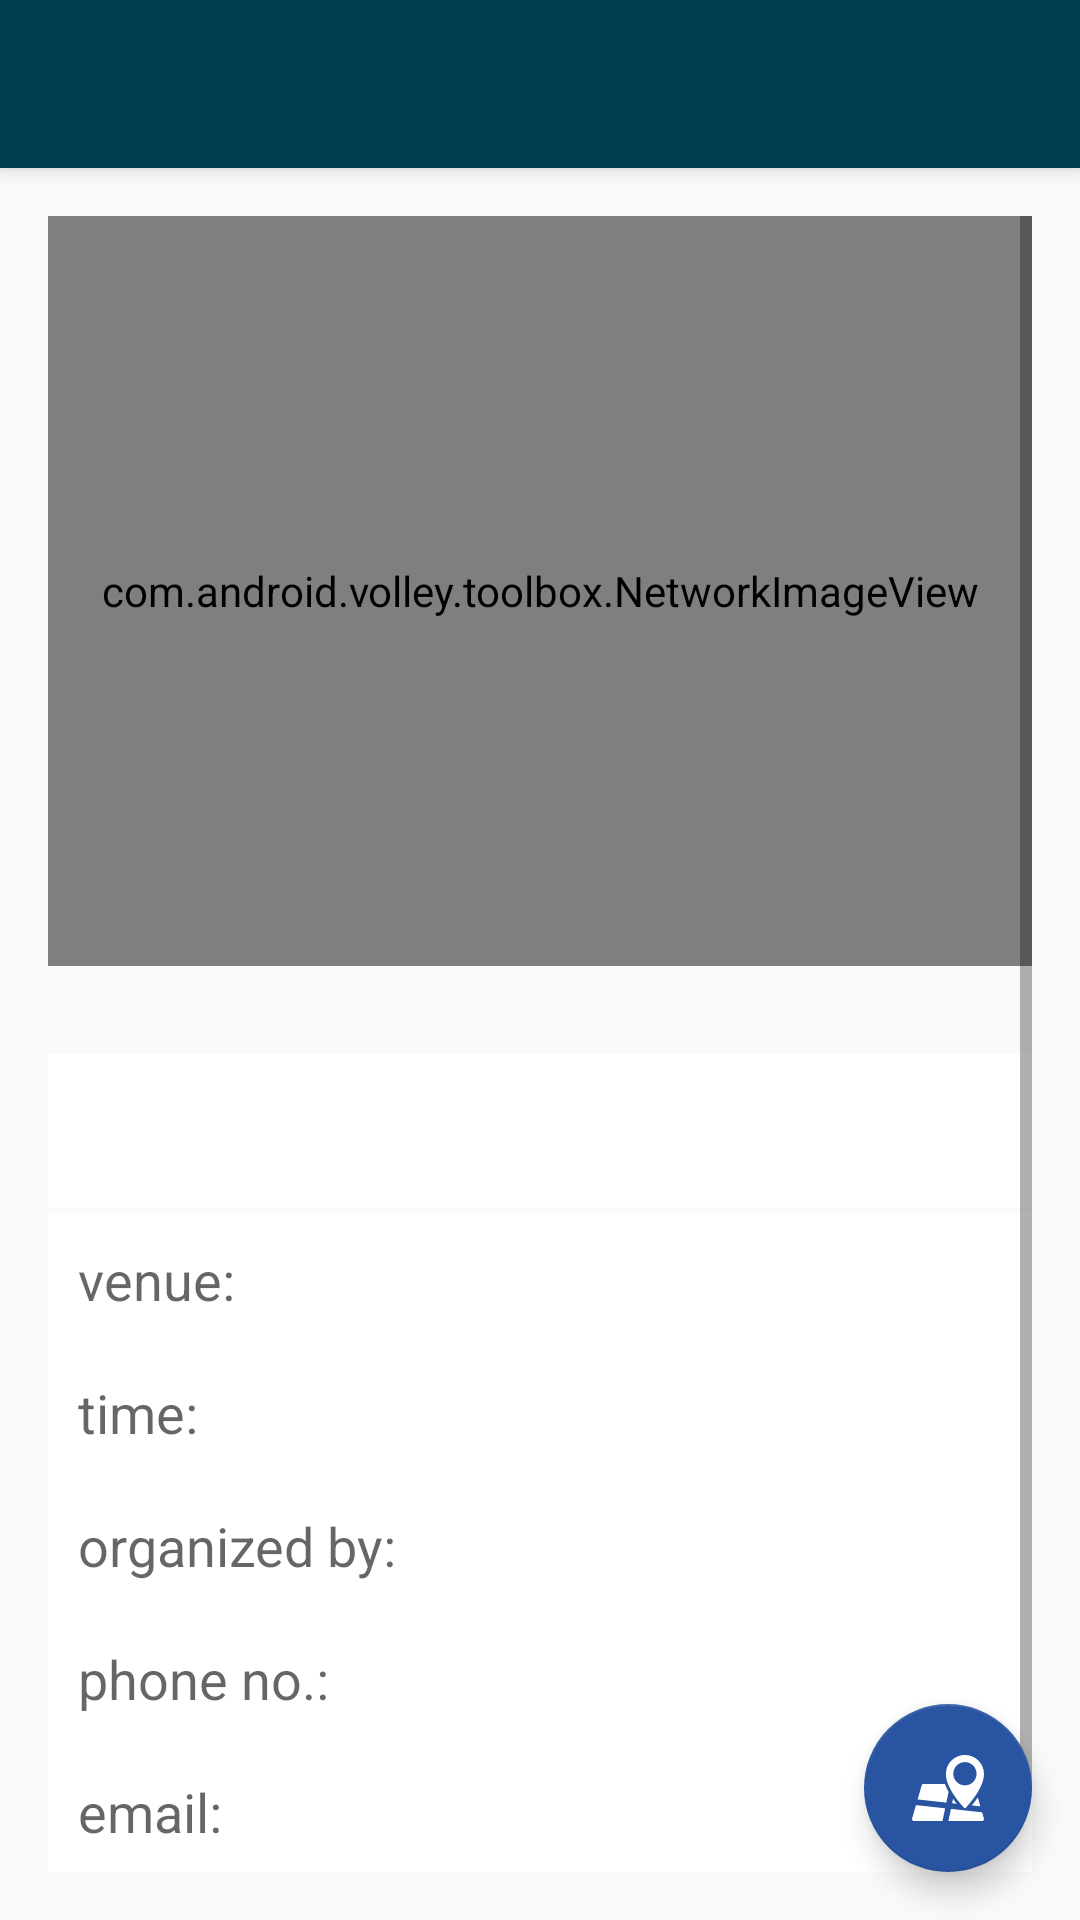

Named icons in this screenshot (1080px x 1920px) and their bounding boxes, (x1, y1, x2, y2):
map: (864, 1704, 1032, 1872)
